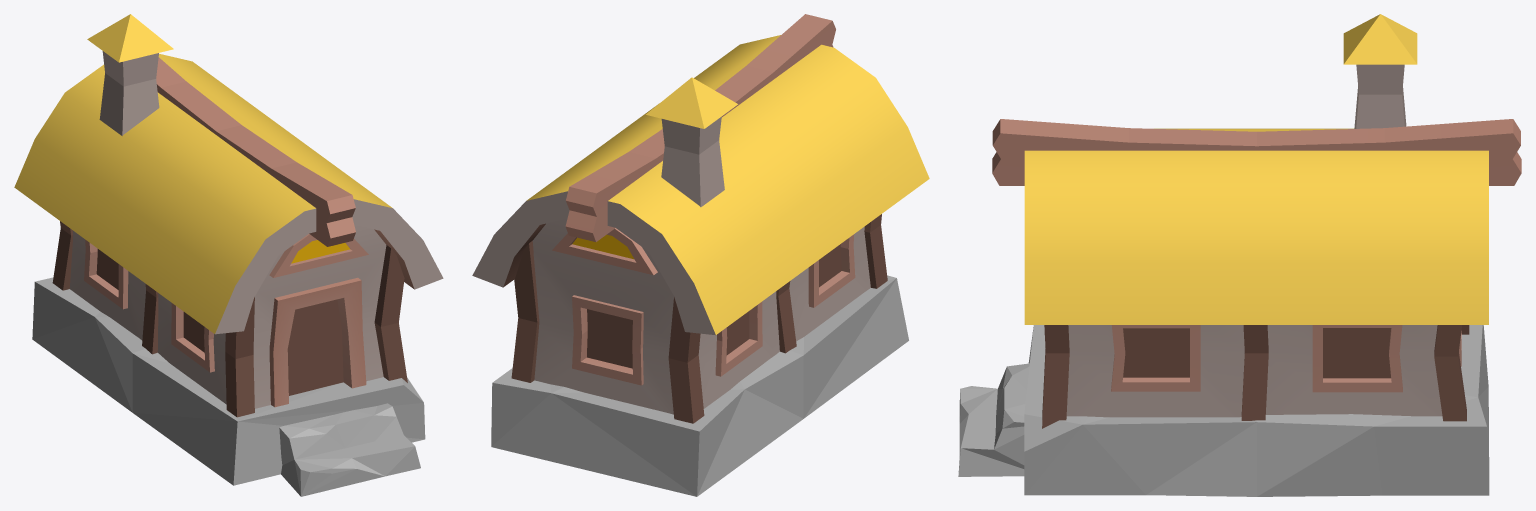
The model's file is house_008.fbx.
3 views of the same model, side by side, from view 1: azimuth 30°, elevation 25°; view 2: azimuth 150°, elevation 25°; view 3: azimuth 270°, elevation 25° (orthographic). The views are drawn at different scales.
Parts seen in each view (by area): view 1: house_008; view 2: house_008; view 3: house_008.
Boxes of the visible parts, box(x1,y1,x2,y2) form: house_008: box(14, 14, 443, 496); house_008: box(472, 14, 929, 496); house_008: box(958, 14, 1521, 496).
Bounding box in the file's own units: 318 × 586 × 462.
Materials: 2 (2 with a texture image).
